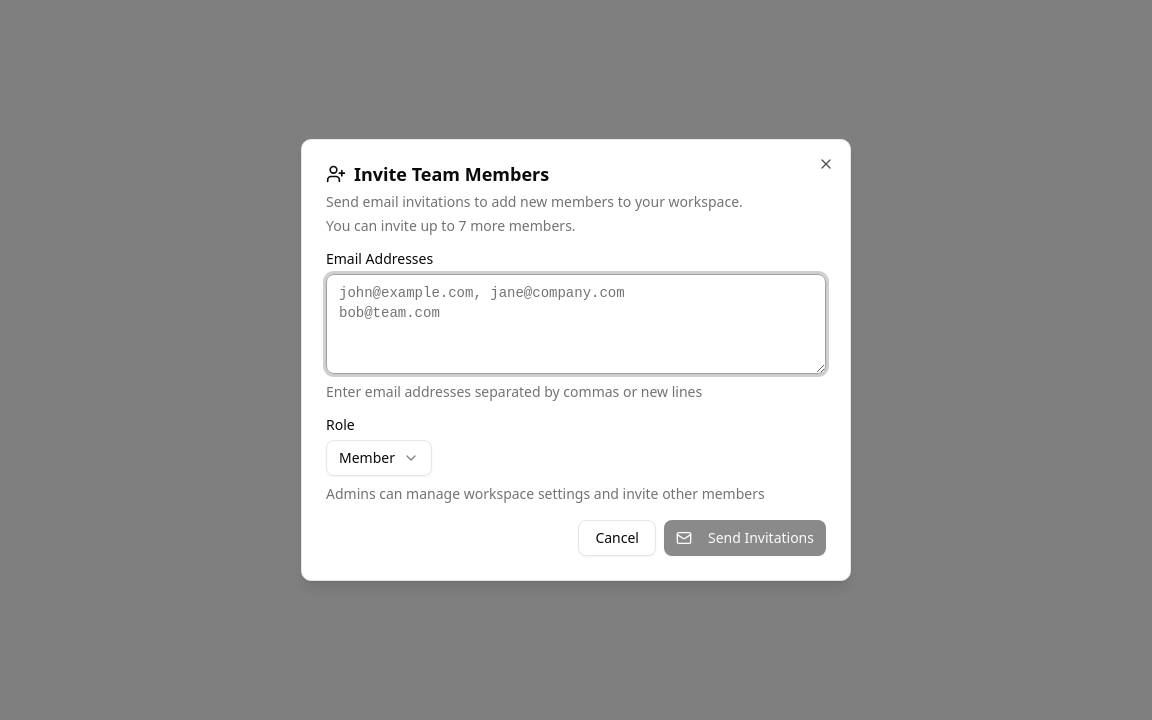
InviteMembersModal › shows correct invitation count in button
Type "user1@test.com, user2@test.com, user3@test.com" into the text box with placeholder "john@example.com, jane@company.com bob@team.com" at (576, 324), box [326,274,826,374]
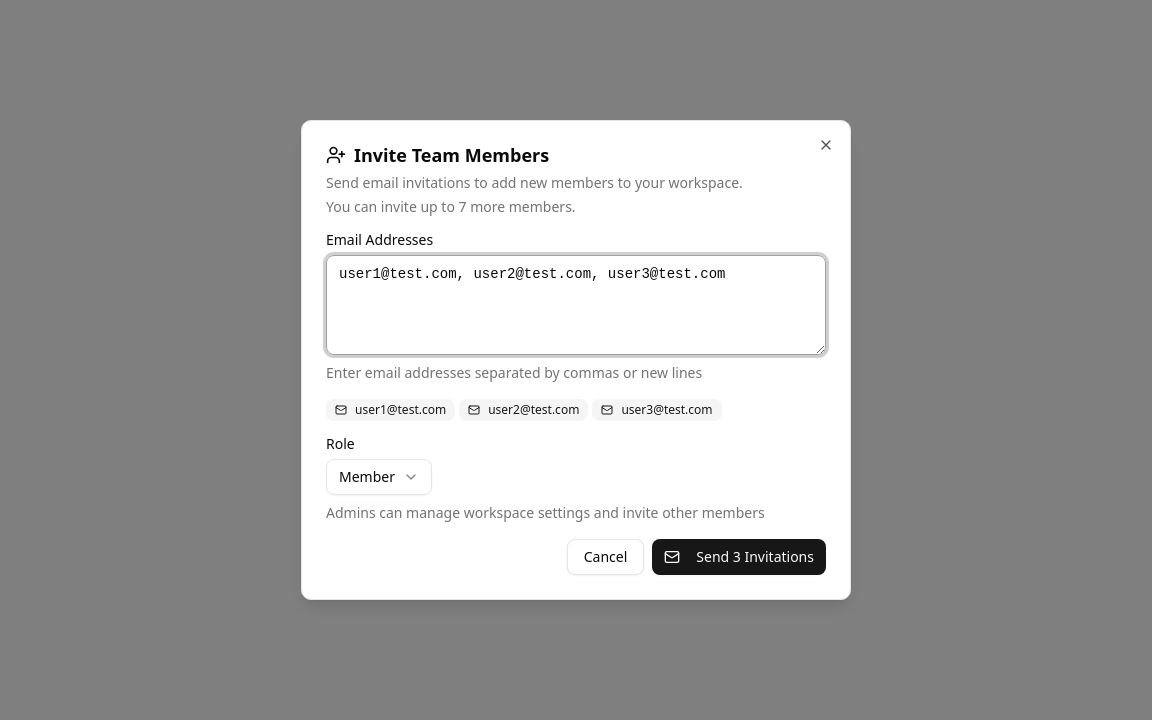
Expected: the button "Send 3 Invitations" is shown, [652,539,826,575]
